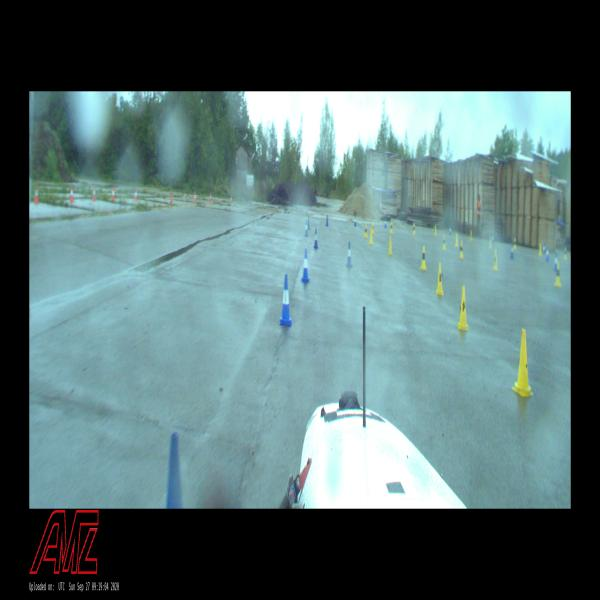blue_cone: (167, 433, 182, 509), (280, 275, 292, 326), (301, 248, 310, 282), (346, 243, 352, 268), (314, 227, 318, 249), (554, 250, 558, 272), (304, 220, 309, 237), (509, 243, 514, 259), (546, 245, 550, 261), (307, 214, 310, 230), (542, 244, 546, 254), (354, 214, 357, 227), (384, 217, 387, 228), (491, 231, 494, 242), (326, 214, 328, 226), (450, 225, 452, 236)
orange_cone: (34, 185, 39, 204), (92, 184, 97, 201), (70, 185, 74, 203), (112, 186, 116, 201), (134, 187, 138, 201), (170, 192, 173, 202), (230, 194, 233, 204), (194, 191, 196, 204), (210, 192, 212, 203)
yellow_cone: (511, 327, 534, 398), (458, 288, 468, 331), (436, 264, 444, 296), (554, 262, 562, 286), (421, 246, 426, 269), (493, 251, 498, 270), (459, 241, 464, 259), (388, 236, 392, 256), (442, 233, 446, 250), (369, 229, 373, 244), (538, 242, 542, 257), (455, 232, 458, 247), (489, 234, 492, 249), (564, 247, 567, 261), (412, 223, 415, 236), (434, 223, 437, 236), (364, 224, 367, 236), (390, 222, 393, 233), (470, 230, 472, 243), (514, 238, 516, 250), (372, 222, 374, 233)
